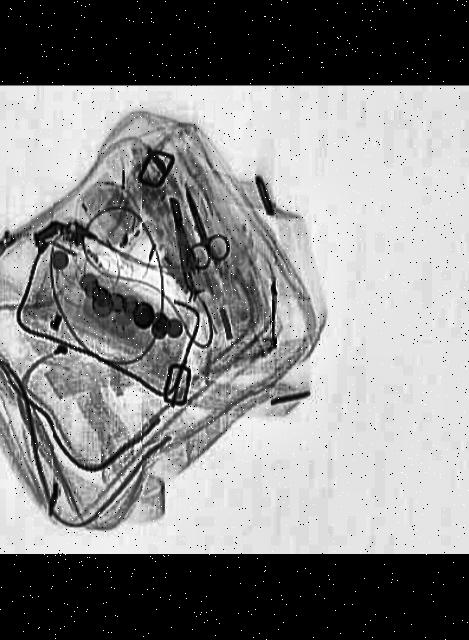Scissors: (167, 187, 238, 274)
